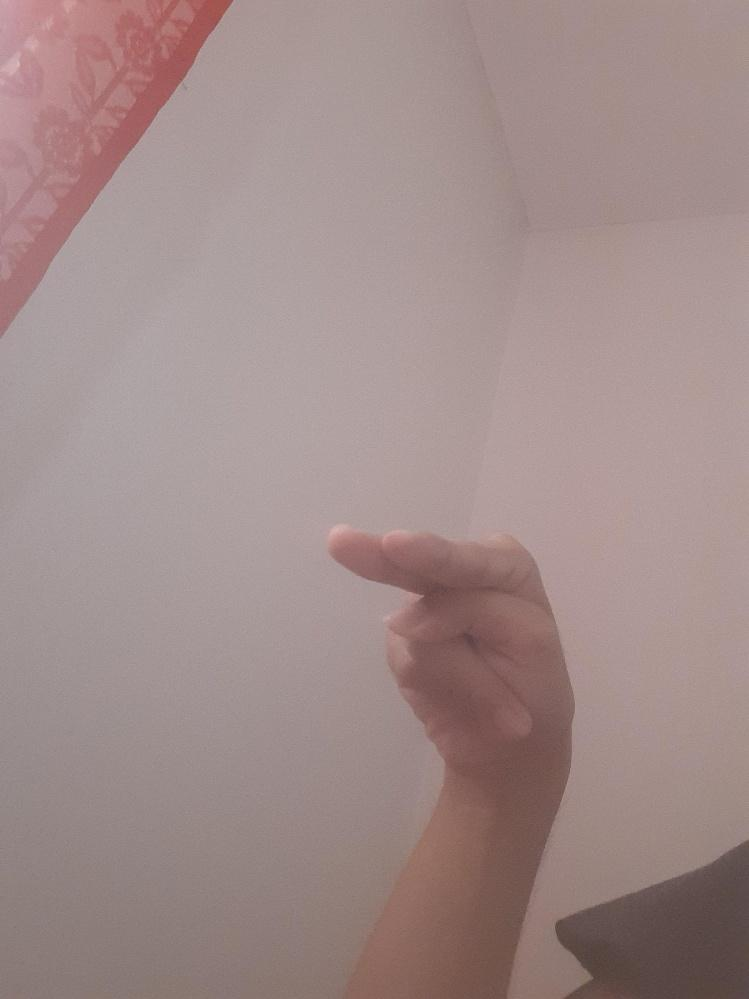n: (323, 518, 571, 763)
